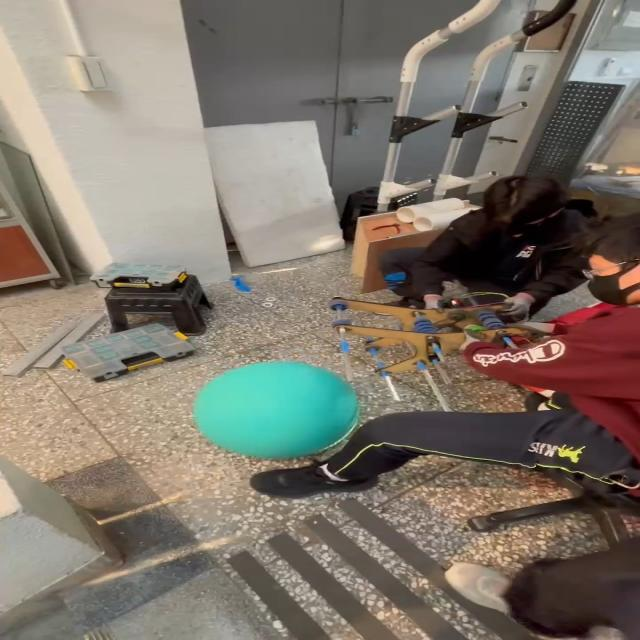ALGAE: (190, 360, 361, 460)
